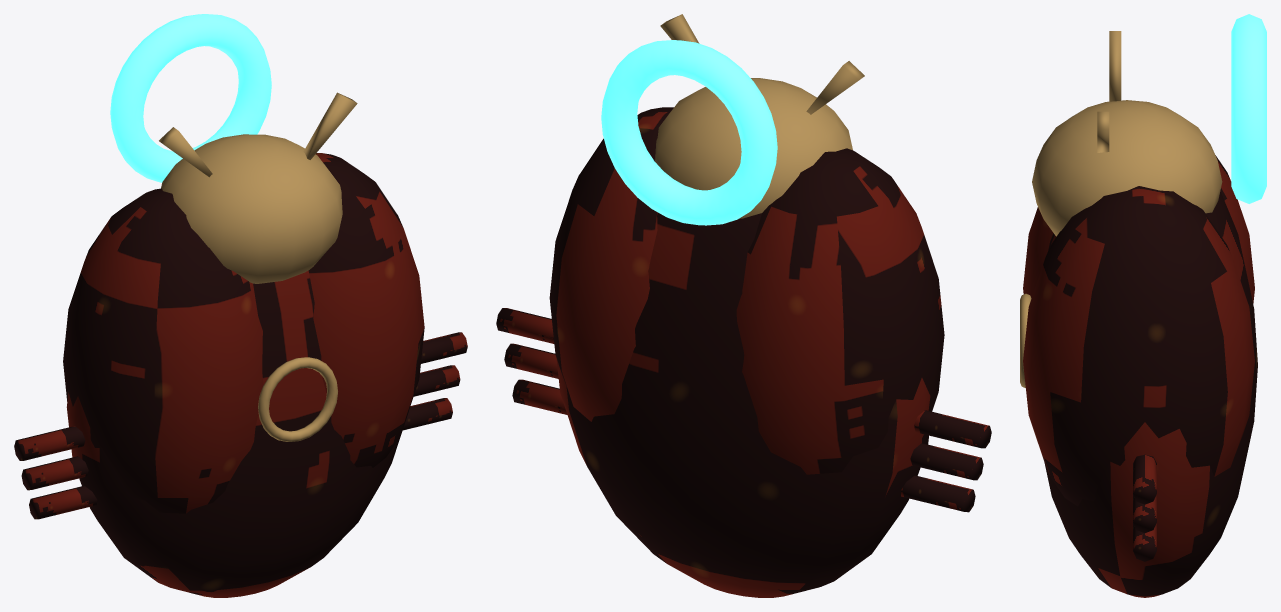
The model's file is scarab_amulet_pattern_cinnabar.fbx.
The picture shows the model from 3 angles, left to right: view 1: azimuth 30°, elevation 25°; view 2: azimuth 150°, elevation 25°; view 3: azimuth 270°, elevation 25°; orthographic projection. The views are drawn at different scales.
Visible parts, largest first — view 1: Reviewed_scarab_amulet_Body.005, TH10_Scarab_Handle.008; view 2: Reviewed_scarab_amulet_Body.005, TH10_Scarab_Handle.008; view 3: Reviewed_scarab_amulet_Body.005, TH10_Scarab_Handle.008.
Part boxes in pixels (x1,y1,x2,y2): Reviewed_scarab_amulet_Body.005: (14, 92, 467, 597); TH10_Scarab_Handle.008: (110, 14, 271, 182); Reviewed_scarab_amulet_Body.005: (496, 14, 991, 597); TH10_Scarab_Handle.008: (601, 40, 777, 225); Reviewed_scarab_amulet_Body.005: (1020, 31, 1257, 597); TH10_Scarab_Handle.008: (1231, 14, 1266, 203).
Size of the model in its own units: 0.179 by 0.208 by 0.083.
Materials: 3 (1 with a texture image).
